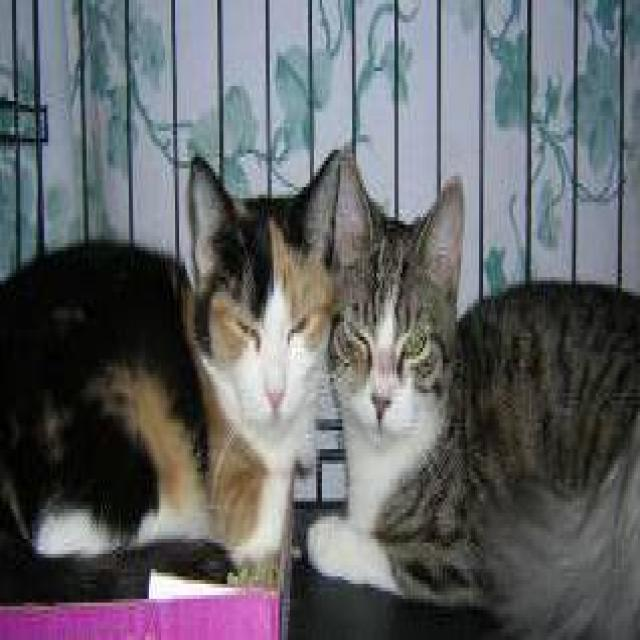cat: (304, 154, 638, 636), (0, 146, 342, 603)
